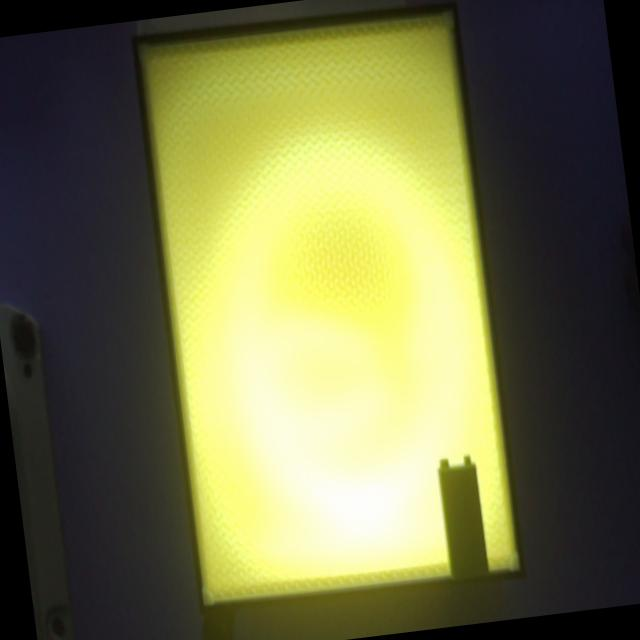bateria: (437, 455, 489, 580)
mesa: (132, 2, 525, 615)
